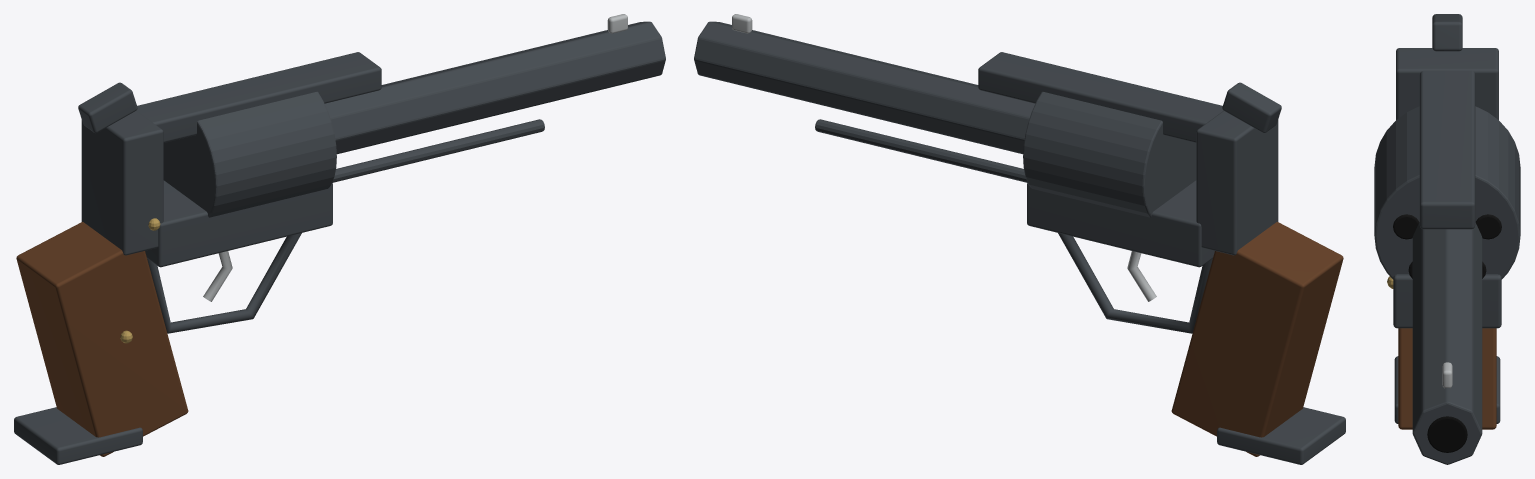
File: adams_1851.glb
The picture shows the model from 3 angles, left to right: view 1: azimuth 30°, elevation 25°; view 2: azimuth 150°, elevation 25°; view 3: azimuth 270°, elevation 25°; orthographic projection. The views are drawn at different scales.
Parts seen in each view (by area): view 1: Grip, Octagonal barrel, Five chamber cylinder, Rear frame, Top strap, Solid frame, Grip butt, Loading lever, Trigger guard, Hammer; view 2: Grip, Octagonal barrel, Five chamber cylinder, Rear frame, Top strap, Solid frame, Grip butt, Loading lever, Trigger guard, Hammer; view 3: Octagonal barrel, Five chamber cylinder, Top strap, Rear frame, Grip, Solid frame, Muzzle bore, Hammer, Grip butt, Chamber mouth.001, Chamber mouth.004, Front blade sight.
Part boxes in pixels (box(x1,y1,x2,y2)): Grip: box(16, 222, 188, 456); Octagonal barrel: box(325, 21, 665, 154); Five chamber cylinder: box(163, 91, 336, 217); Rear frame: box(81, 110, 163, 255); Top strap: box(136, 52, 381, 142); Solid frame: box(145, 180, 332, 267); Grip butt: box(14, 407, 142, 464); Loading lever: box(332, 119, 544, 182); Trigger guard: box(147, 233, 301, 333); Hammer: box(78, 82, 137, 132); Grip: box(1171, 222, 1343, 456); Octagonal barrel: box(694, 21, 1034, 154); Five chamber cylinder: box(1023, 91, 1196, 217); Rear frame: box(1196, 110, 1278, 255); Top strap: box(978, 52, 1223, 142); Solid frame: box(1027, 180, 1214, 267); Grip butt: box(1217, 407, 1345, 464); Loading lever: box(815, 119, 1027, 182); Trigger guard: box(1058, 233, 1212, 333); Hammer: box(1222, 82, 1281, 132); Octagonal barrel: box(1412, 222, 1482, 464); Five chamber cylinder: box(1374, 106, 1520, 279); Top strap: box(1419, 70, 1475, 229); Rear frame: box(1396, 48, 1498, 119); Grip: box(1398, 328, 1496, 429); Solid frame: box(1393, 274, 1501, 328); Muzzle bore: box(1427, 416, 1467, 452); Hammer: box(1432, 14, 1462, 51); Grip butt: box(1394, 356, 1500, 423); Chamber mouth.001: box(1475, 214, 1501, 239); Chamber mouth.004: box(1393, 214, 1419, 239); Front blade sight: box(1442, 362, 1452, 388).
Bounding box in the file's own units: 0.3362 × 0.1798 × 0.058.
